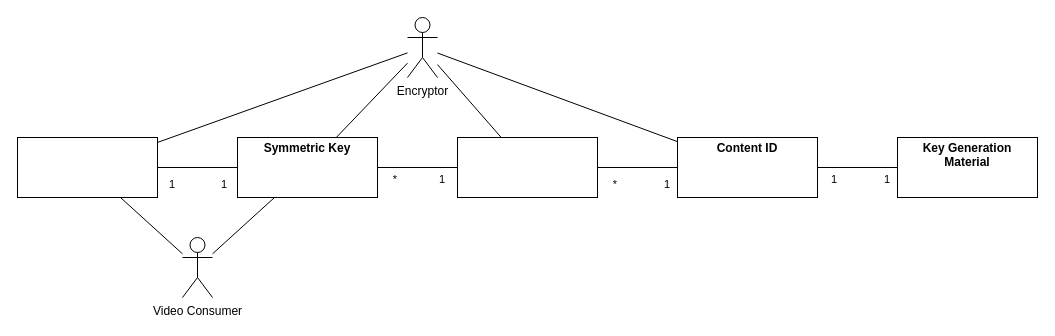
Some shapes in this 1055 by 336 pixel diagram are drawn without their labels. The box of each missing label's shape, as (x1, y1, x2, y2) in pixels:
Key ID: (456, 136, 598, 198)
Retrieval URL: (16, 136, 158, 198)
